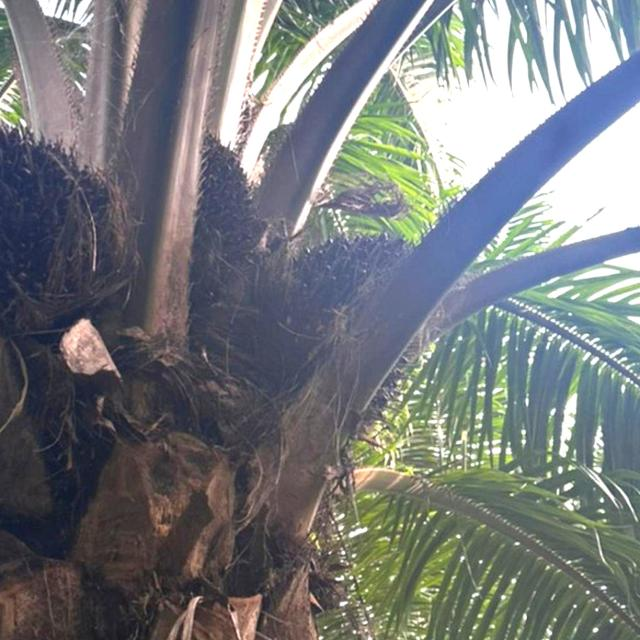almost: (263, 220, 435, 433)
